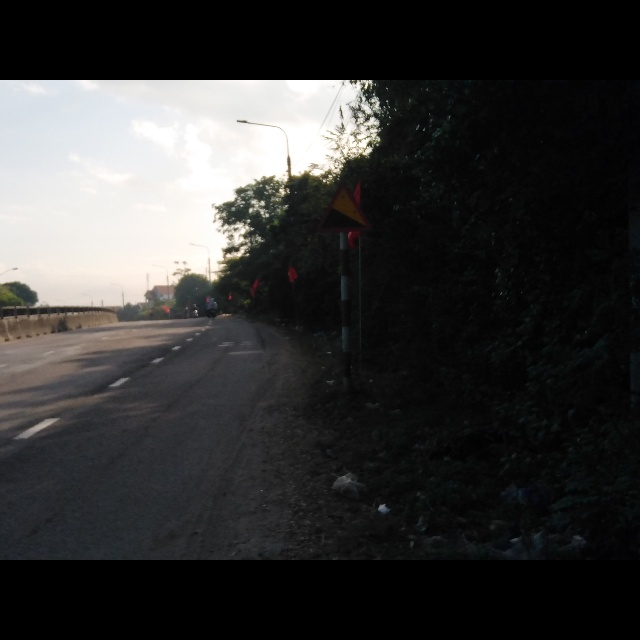Dốc lên nguy hiểm: (312, 179, 371, 235)
